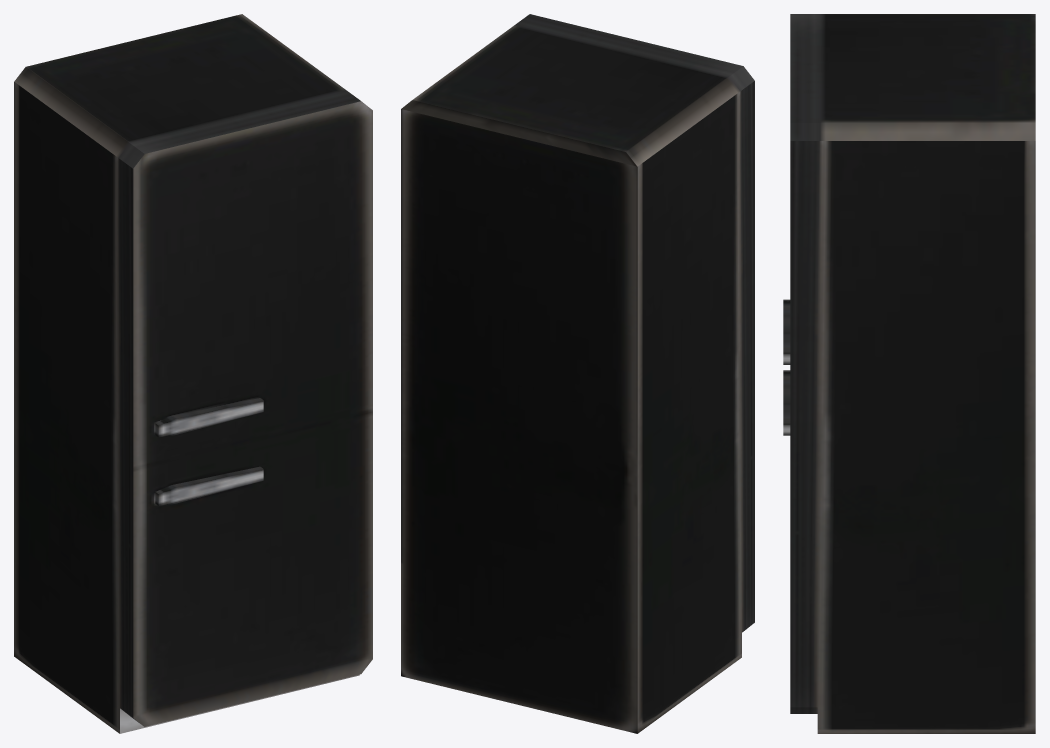
The model's file is Fridge2.fbx.
3 views of the same model, side by side, from view 1: azimuth 30°, elevation 25°; view 2: azimuth 150°, elevation 25°; view 3: azimuth 270°, elevation 25° (orthographic). The views are drawn at different scales.
Parts seen in each view (by area): view 1: Empty_Mesh; view 2: Empty_Mesh; view 3: Empty_Mesh.
Boxes of the visible parts, <box> form: Empty_Mesh: <box>14,14,372,733</box>; Empty_Mesh: <box>401,14,754,733</box>; Empty_Mesh: <box>783,14,1035,733</box>.
Size of the model in its own units: 85.35 by 200 by 75.47.
